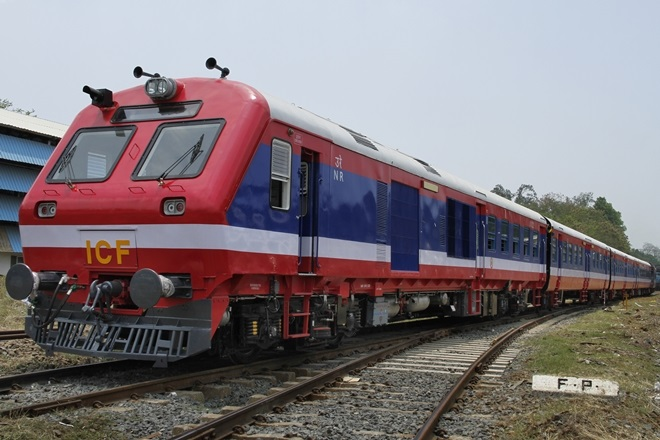train: (17, 66, 657, 366)
